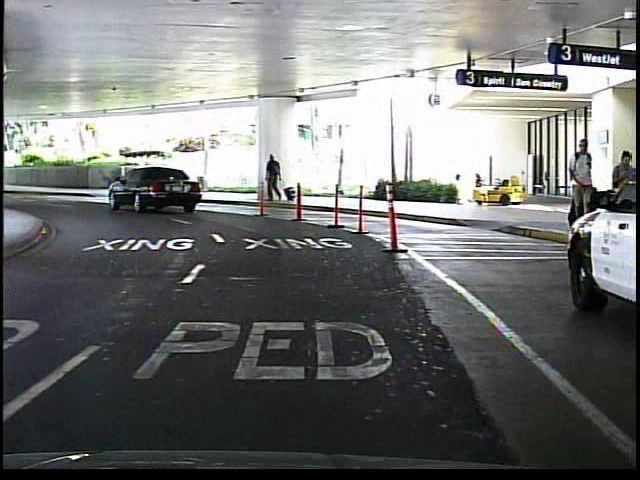person: (561, 135, 596, 235), (261, 152, 287, 206)
